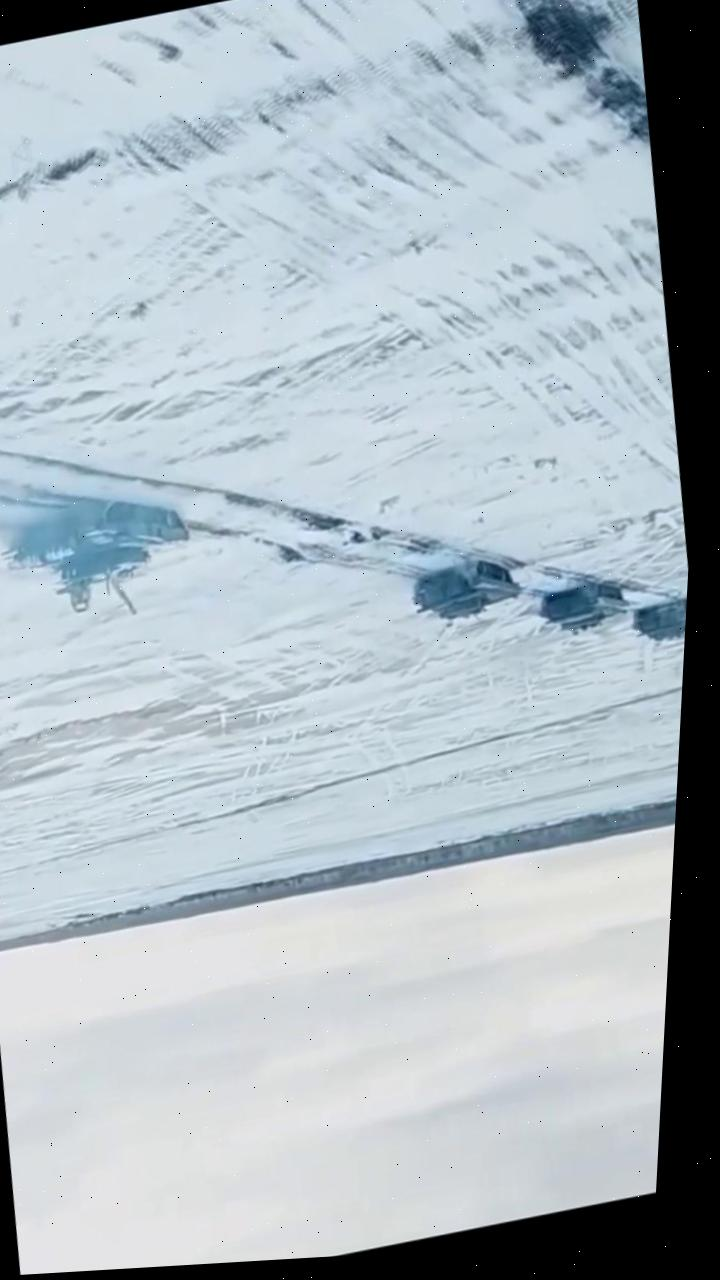tank: (0, 485, 200, 641), (399, 545, 528, 638), (532, 565, 633, 648), (625, 591, 687, 654)
